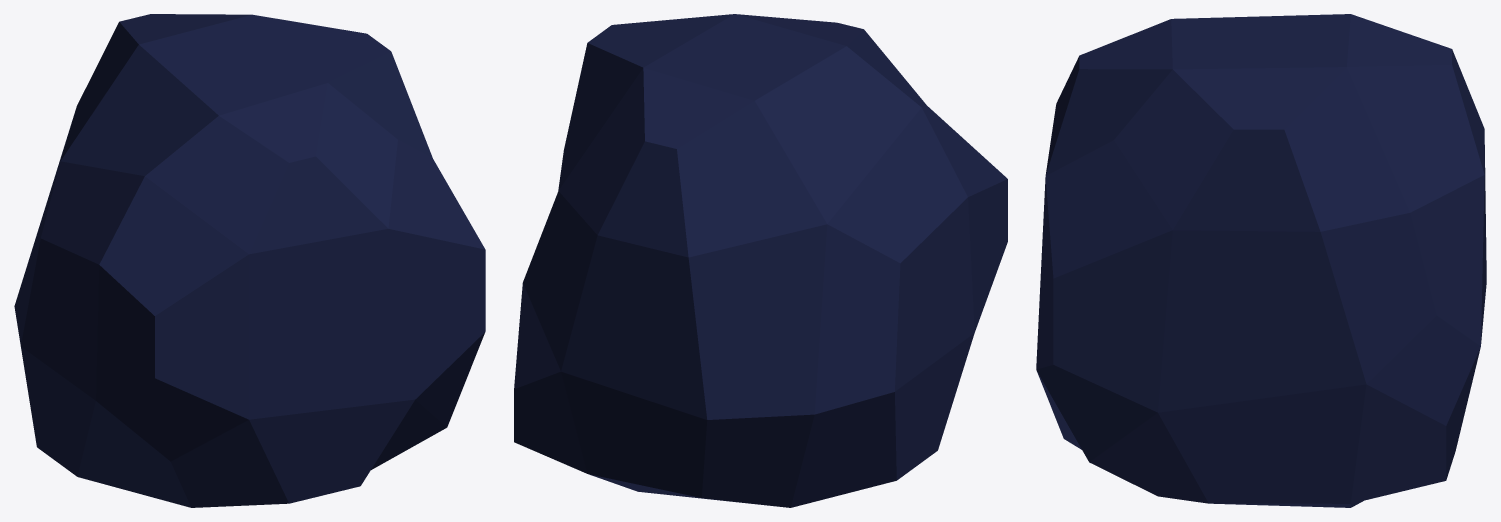
File: Cave_stone_6.glb
3 renders of one model, left to right at view 1: azimuth 30°, elevation 25°; view 2: azimuth 150°, elevation 25°; view 3: azimuth 270°, elevation 25°, orthographic. The views are drawn at different scales.
Parts seen in each view (by area): view 1: Cave_stone_06; view 2: Cave_stone_06; view 3: Cave_stone_06.
Boxes of the visible parts, x1=… form: Cave_stone_06: x1=14, y1=14, x2=485, y2=507; Cave_stone_06: x1=514, y1=14, x2=1007, y2=507; Cave_stone_06: x1=1036, y1=14, x2=1486, y2=507.
Size of the model in its own units: 0.2871 by 0.3363 by 0.3127.
